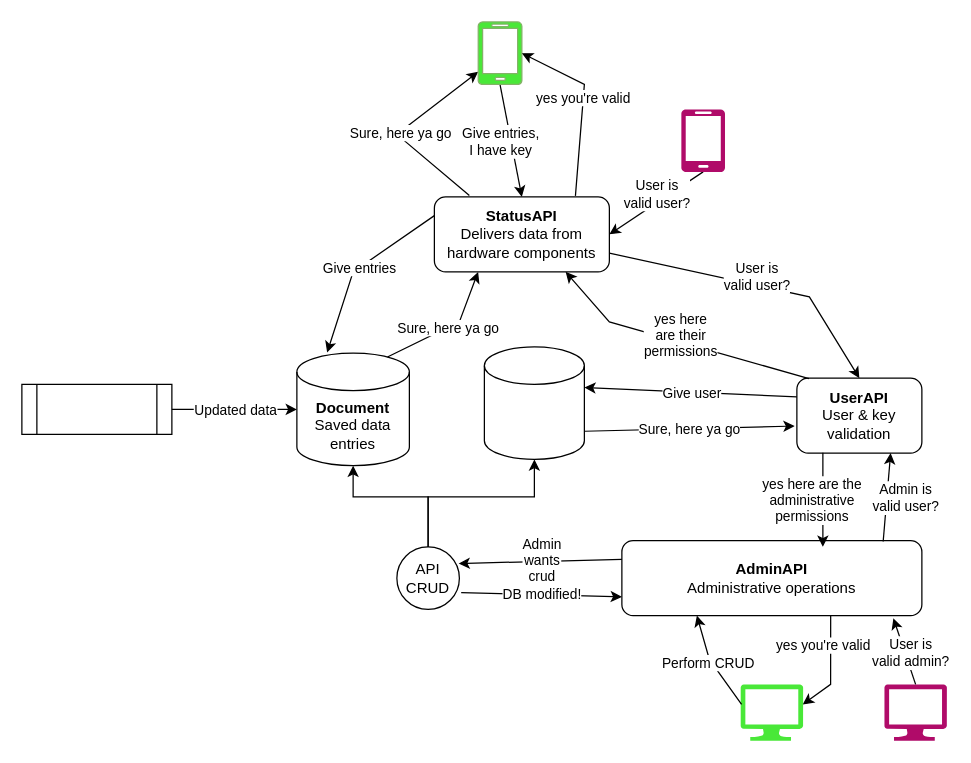
Some shapes in this 971 by 763 pixel diagram are drawn without their labels. The box of each missing label's shape, as (x1, y1, x2, y2) in pixels:
Actual greenhouse: (21, 383, 172, 434)
SQL User & Greenhouse data: (483, 346, 584, 459)
